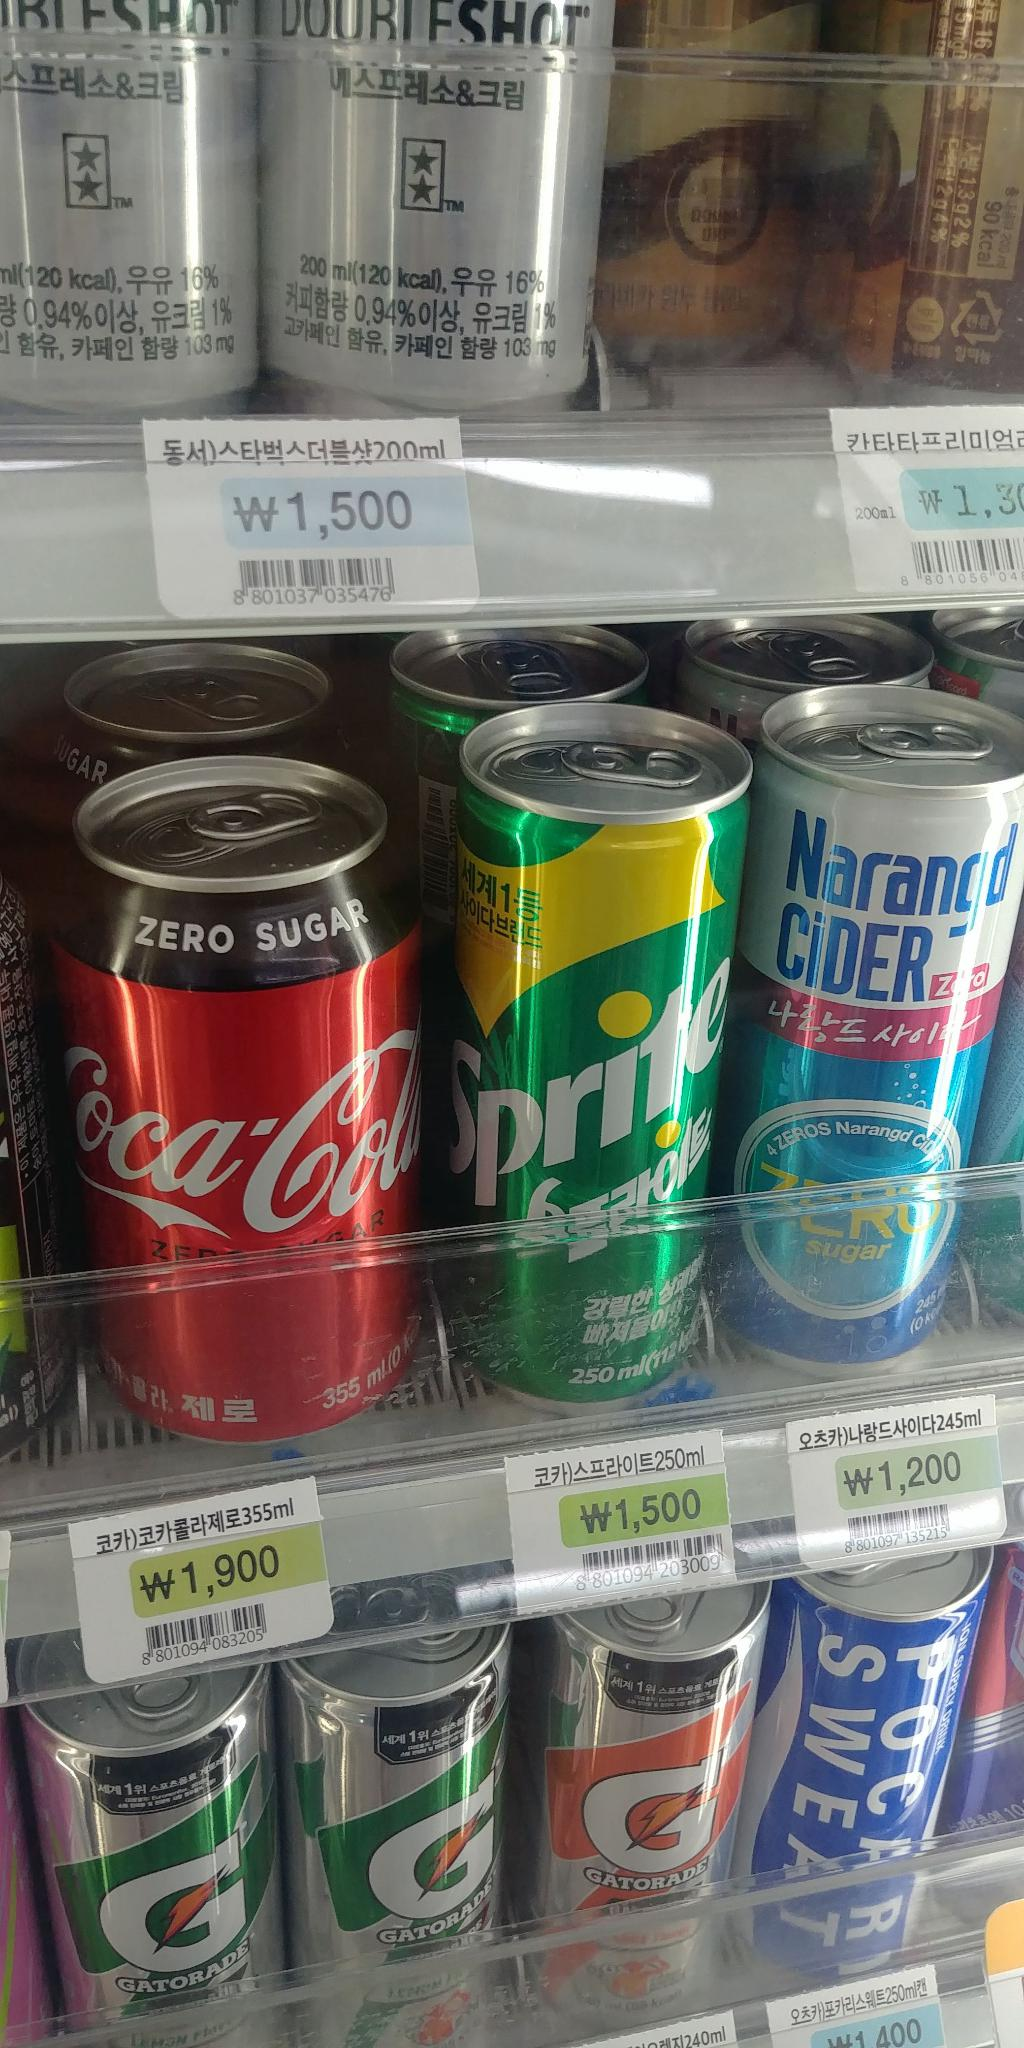narangdcider: (751, 669, 1019, 1373)
